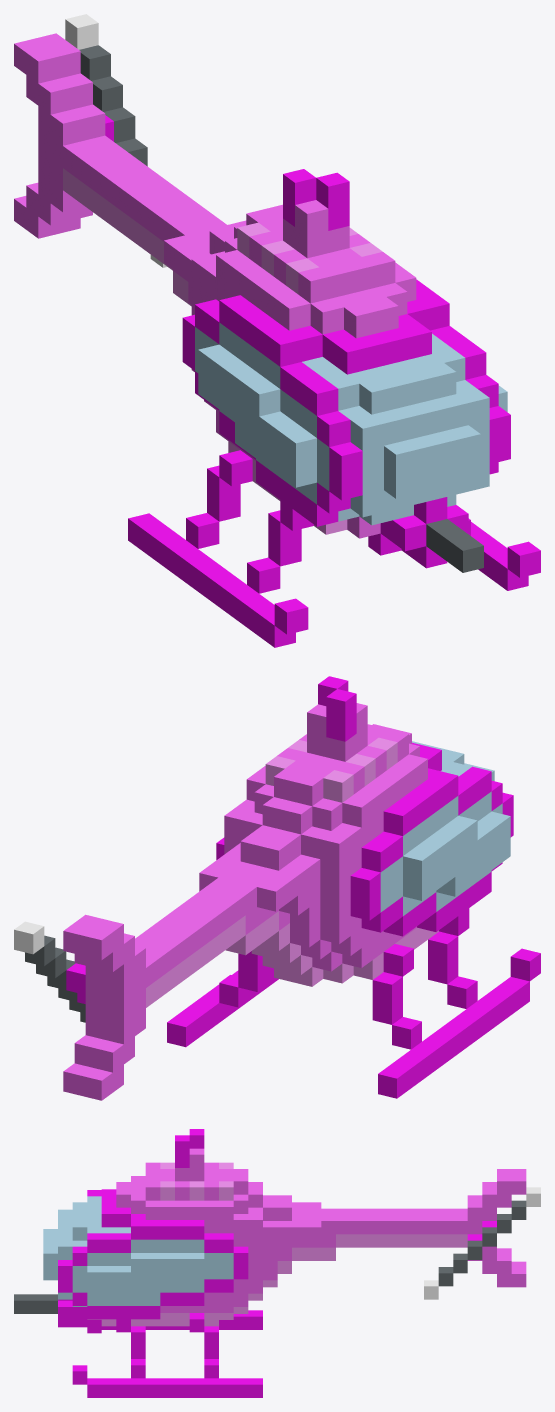
The model's file is scout_heli.obj.
3 views of the same model, one above another, from view 1: azimuth 30°, elevation 25°; view 2: azimuth 150°, elevation 25°; view 3: azimuth 270°, elevation 25° (orthographic). The views are drawn at different scales.
Size of the model in its own units: 1.2 by 1.7 by 3.6.
1 material, 1 textured.
